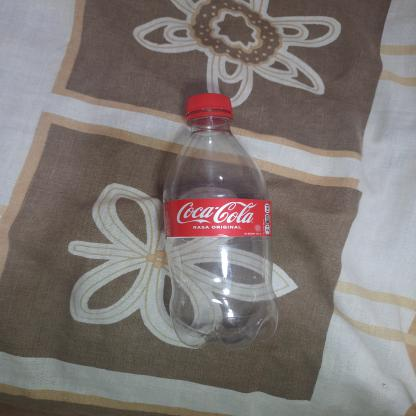bottle: (154, 87, 281, 358)
